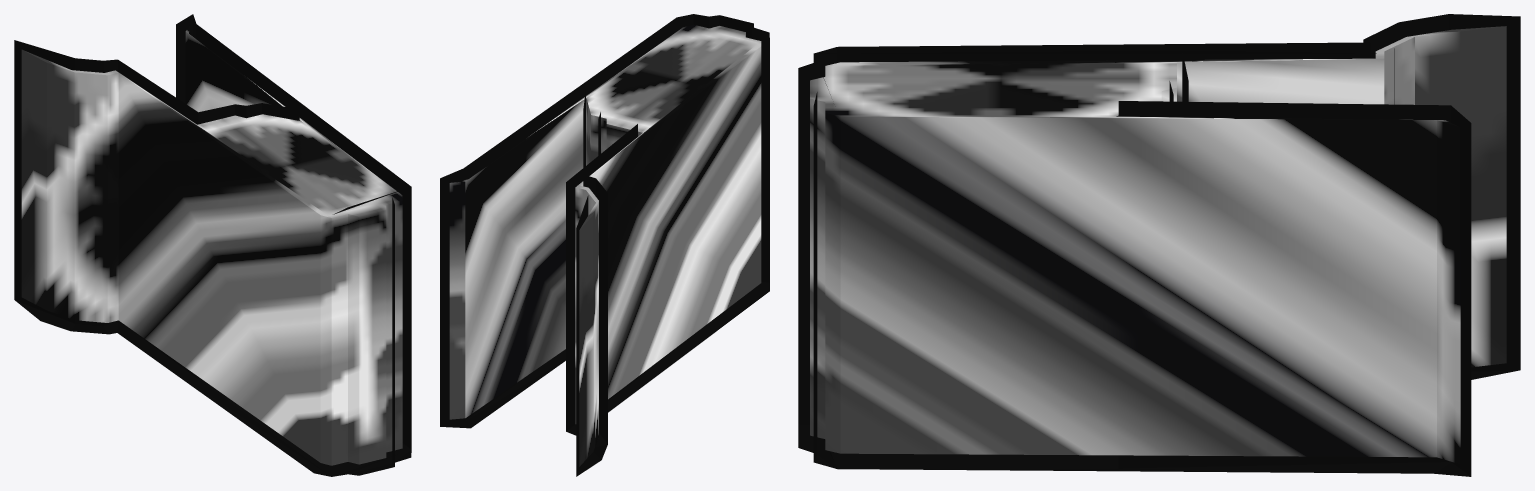
Rendered from Building_HoopstoneRing_Things_Building_Joy_HoopstoneRing.glb.
The picture shows the model from 3 angles, left to right: view 1: azimuth 30°, elevation 25°; view 2: azimuth 150°, elevation 25°; view 3: azimuth 270°, elevation 25°; orthographic projection. The views are drawn at different scales.
Parts seen in each view (by area): view 1: Body, Outline; view 2: Body, Outline; view 3: Body, Outline.
Boxes of the visible parts, x1,y1,x2,y2 form: Body: [21, 25, 402, 465]; Outline: [14, 14, 411, 476]; Body: [449, 24, 761, 466]; Outline: [440, 14, 769, 476]; Body: [810, 26, 1506, 464]; Outline: [798, 14, 1520, 476].
Size of the model in its own units: 0.4615 by 0.7404 by 1.32.
Materials: 2 (1 with a texture image).
